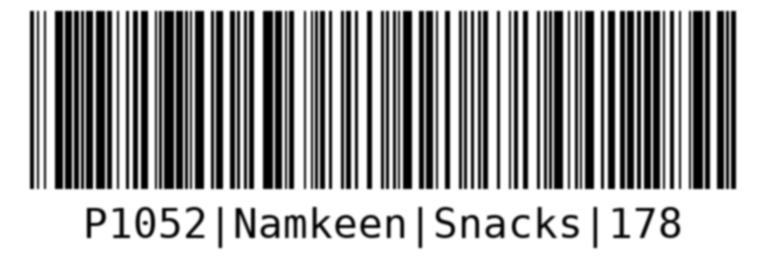milk: (22, 2, 744, 256)
